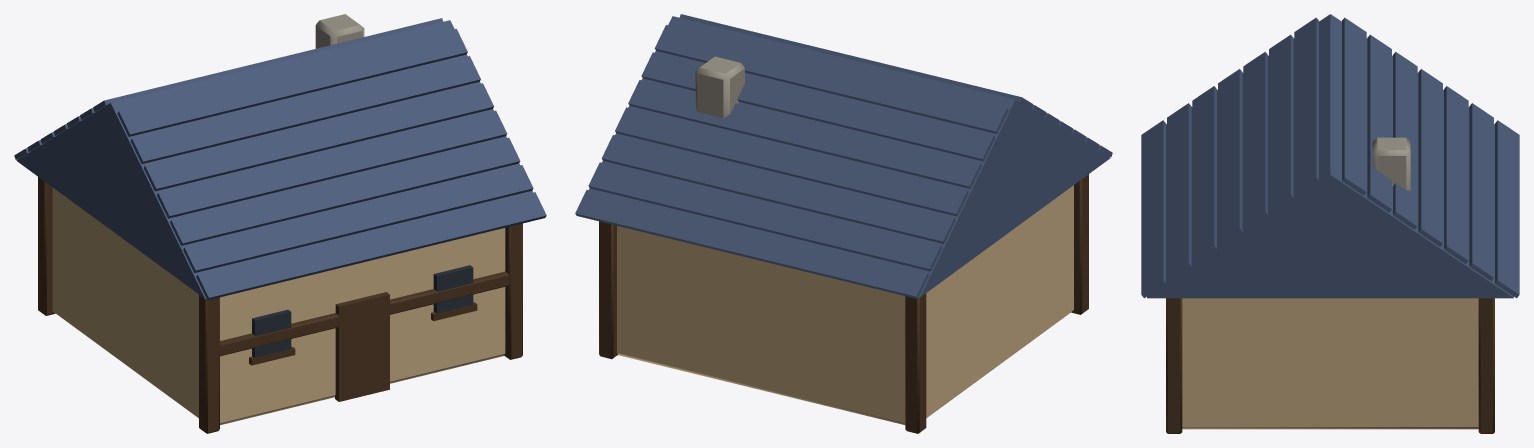
File: house.glb
3 renders of one model, left to right at view 1: azimuth 30°, elevation 25°; view 2: azimuth 150°, elevation 25°; view 3: azimuth 270°, elevation 25°, orthographic. The views are drawn at different scales.
Parts seen in each view (by area): view 1: building; view 2: building; view 3: building.
Boxes of the visible parts, left/top/right/bottom form: building: left=14, top=14, right=546, bottom=433; building: left=575, top=14, right=1112, bottom=433; building: left=1141, top=14, right=1519, bottom=433.
Bounding box in the file's own units: 2.8 × 2.15 × 2.78.
